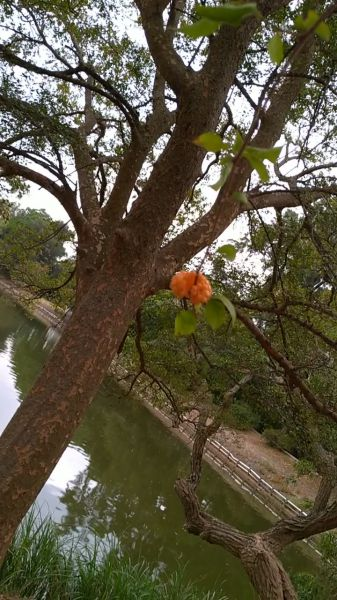eggs: (163, 264, 218, 305)
